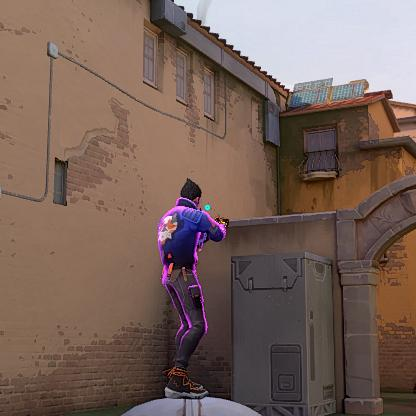enemyBody: (168, 211, 190, 261)
enemyHead: (184, 188, 198, 202)
